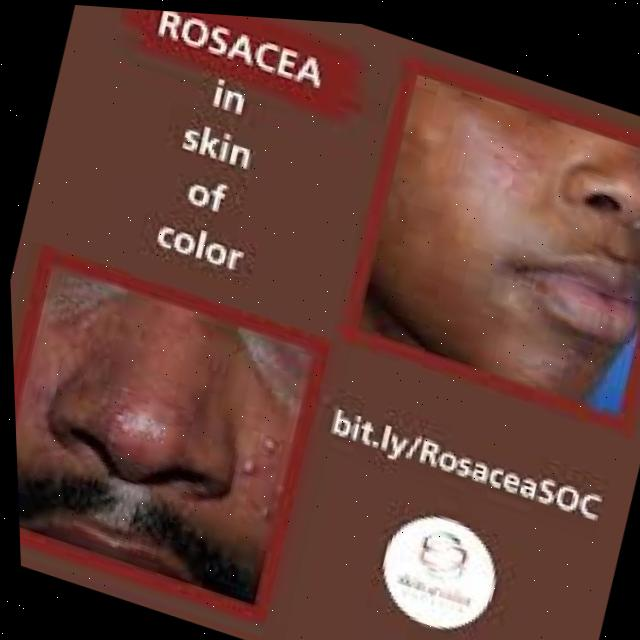Rosacea: (387, 116, 525, 258), (83, 361, 195, 461), (229, 431, 289, 514)
